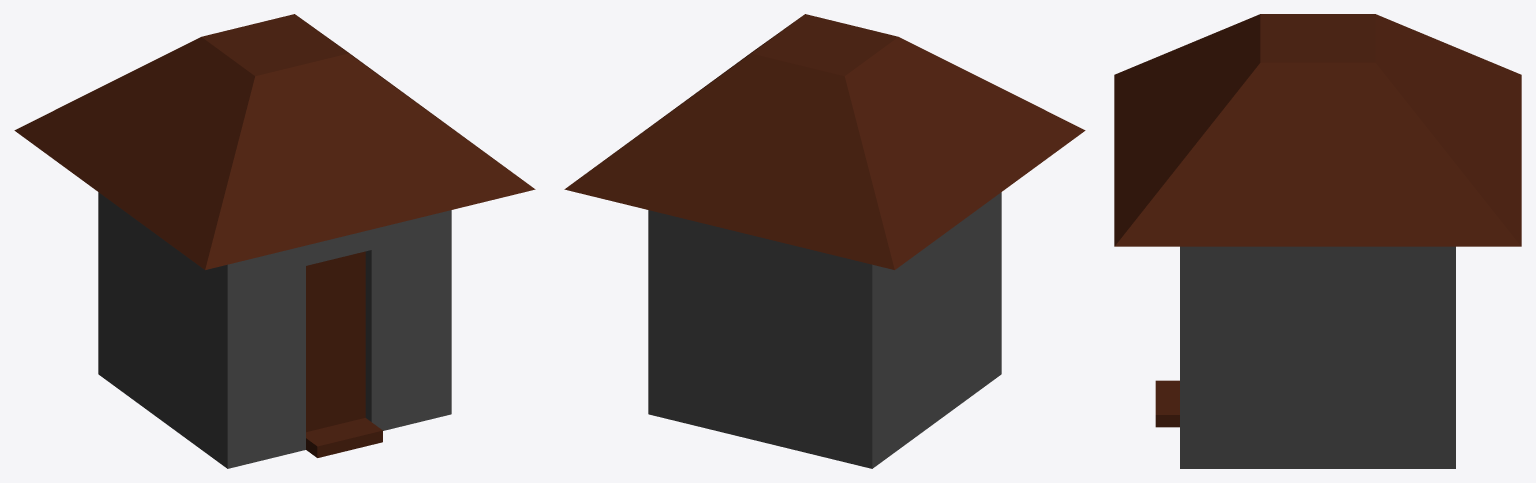
The model's file is house.fbx.
The picture shows the model from 3 angles, left to right: view 1: azimuth 30°, elevation 25°; view 2: azimuth 150°, elevation 25°; view 3: azimuth 270°, elevation 25°; orthographic projection. The views are drawn at different scales.
Parts seen in each view (by area): view 1: Cube; view 2: Cube; view 3: Cube.
Boxes of the visible parts, x1,y1,x2,y2 form: Cube: (14, 14, 535, 468); Cube: (564, 14, 1085, 468); Cube: (1114, 14, 1521, 468).
Bounding box in the file's own units: 295 × 298 × 295.
